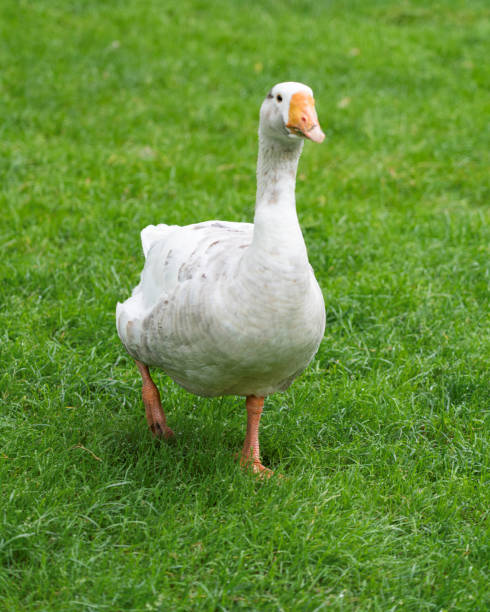goose: (95, 75, 341, 487)
